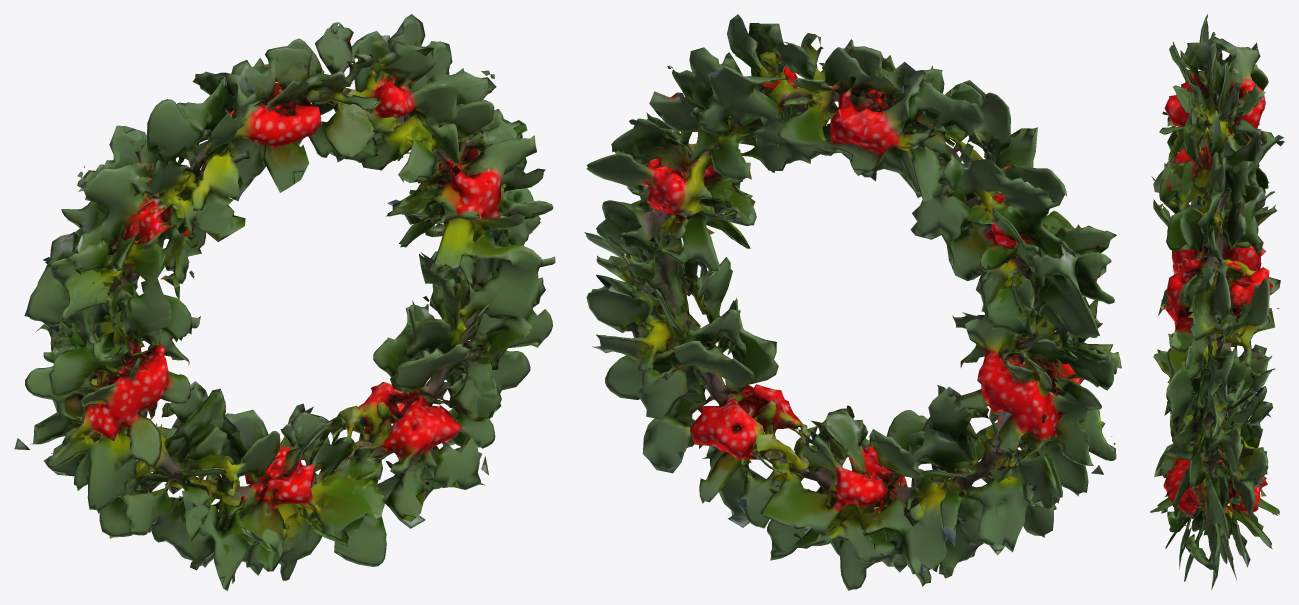
Rendered from Meshy_AI_Festive_Wreath_no_m_0102103723_texture.fbx.
The picture shows the model from 3 angles, left to right: view 1: azimuth 30°, elevation 25°; view 2: azimuth 150°, elevation 25°; view 3: azimuth 270°, elevation 25°; orthographic projection. The views are drawn at different scales.
Parts seen in each view (by area): view 1: Mesh0; view 2: Mesh0; view 3: Mesh0.
Part boxes in pixels (x1,y1,x2,y2): Mesh0: (14, 14, 555, 590); Mesh0: (584, 14, 1121, 590); Mesh0: (1150, 14, 1284, 590).
Size of the model in its own units: 187 by 185 by 44.36.
Materials: 1 (1 with a texture image).
